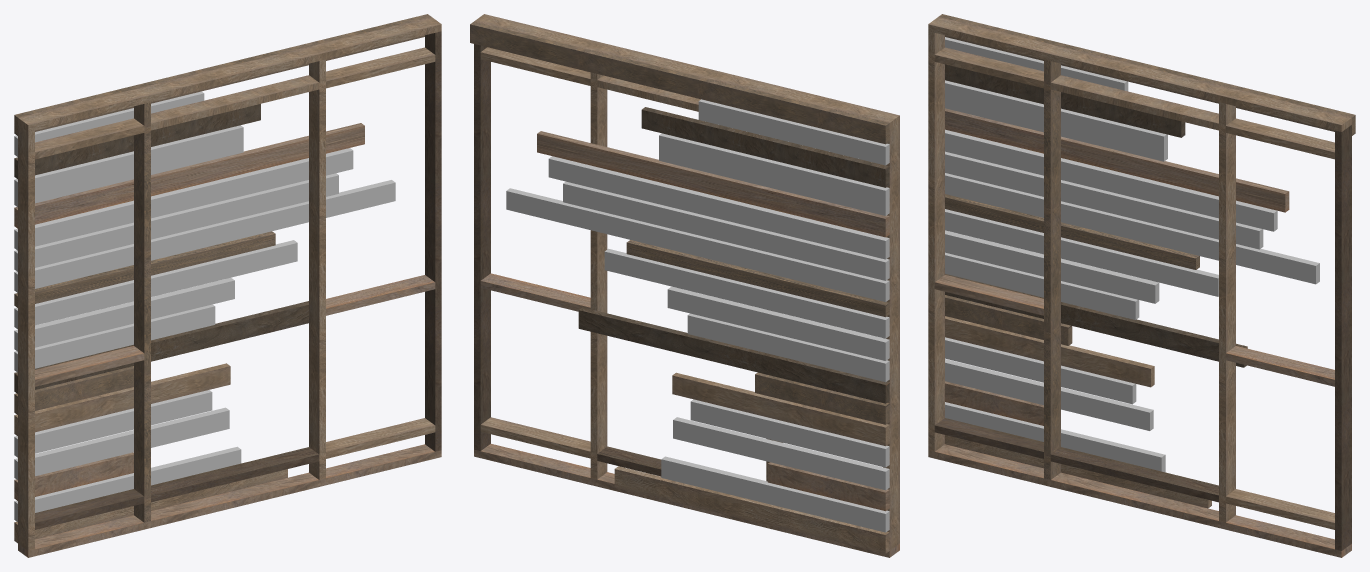
File: WallPeiceDestroyB.fbx
3 views of the same model, side by side, from view 1: azimuth 30°, elevation 25°; view 2: azimuth 150°, elevation 25°; view 3: azimuth 330°, elevation 25° (orthographic).
Parts seen in each view (by area): view 1: WallPeiceDestroyB; view 2: WallPeiceDestroyB; view 3: WallPeiceDestroyB.
Boxes of the visible parts, bbox=[...] form: WallPeiceDestroyB: bbox=[14, 14, 441, 557]; WallPeiceDestroyB: bbox=[470, 14, 899, 557]; WallPeiceDestroyB: bbox=[928, 14, 1355, 557].
Bounding box in the file's own units: 374 × 374 × 22.
